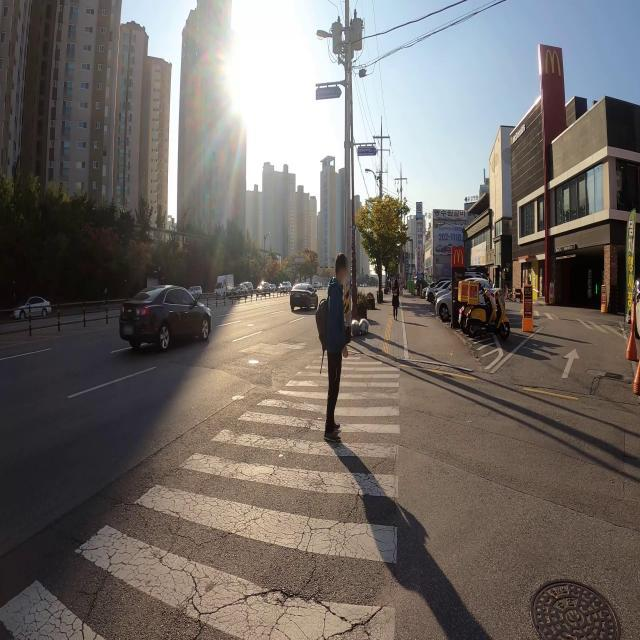crosswalk: (0, 349, 400, 639)
